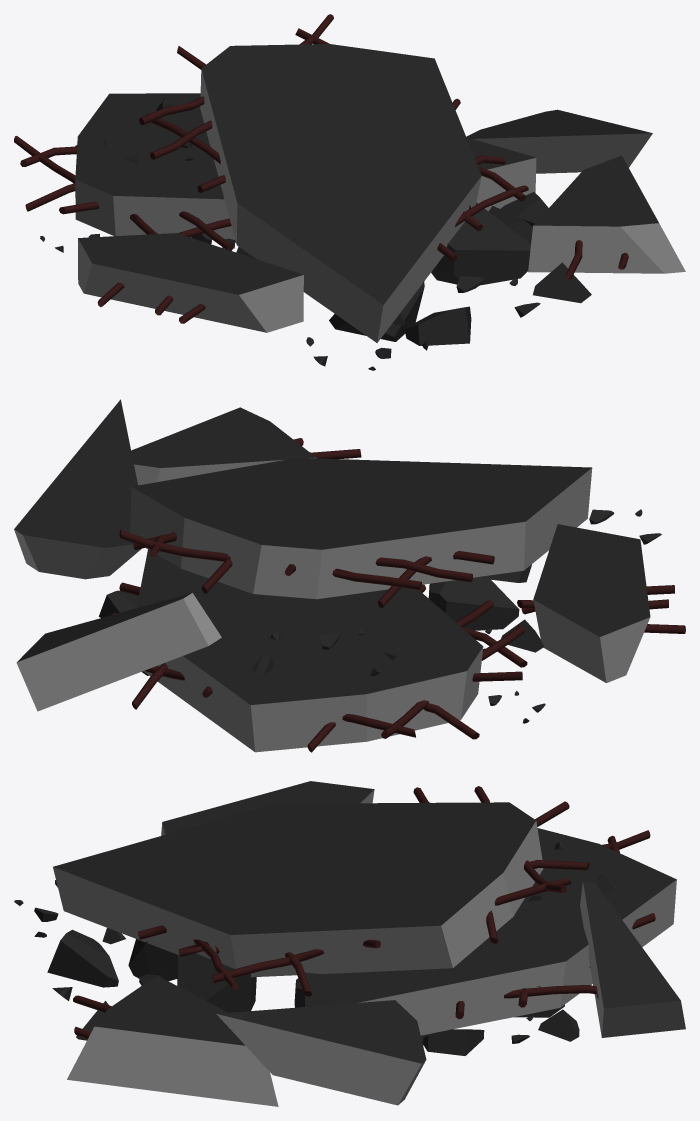
File: P_GrosDEBRIS.FBX
The picture shows the model from 3 angles, top to bottom: view 1: azimuth 30°, elevation 25°; view 2: azimuth 150°, elevation 25°; view 3: azimuth 270°, elevation 25°; orthographic projection. The views are drawn at different scales.
Parts seen in each view (by area): view 1: Box012_Part_013; view 2: Box012_Part_013; view 3: Box012_Part_013.
Part boxes in pixels (<box>): Box012_Part_013: <box>14,14,685,370</box>; Box012_Part_013: <box>14,399,685,752</box>; Box012_Part_013: <box>14,781,685,1106</box>.
Size of the model in its own units: 401 by 397 by 109.
